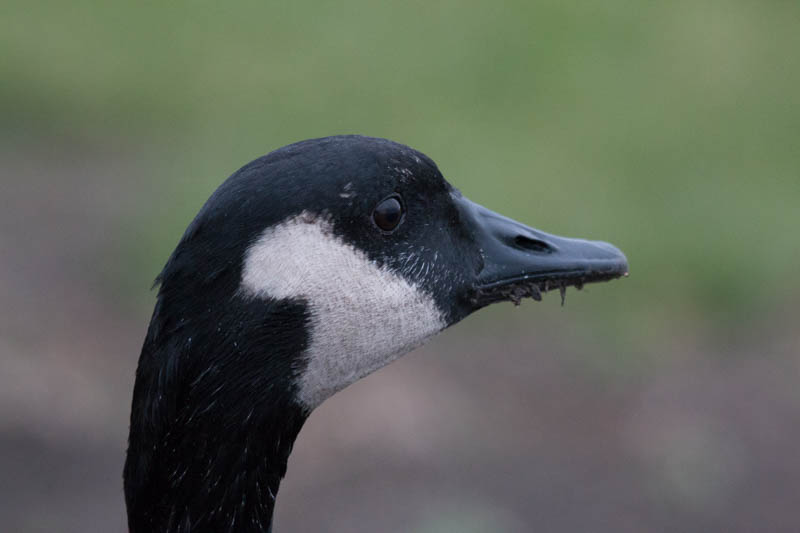goose-head: (139, 134, 629, 415)
